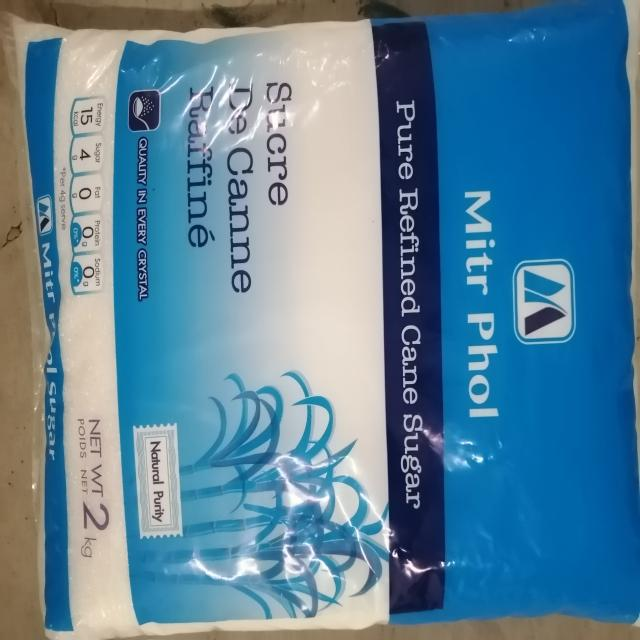object_name: (24, 27, 637, 611)
